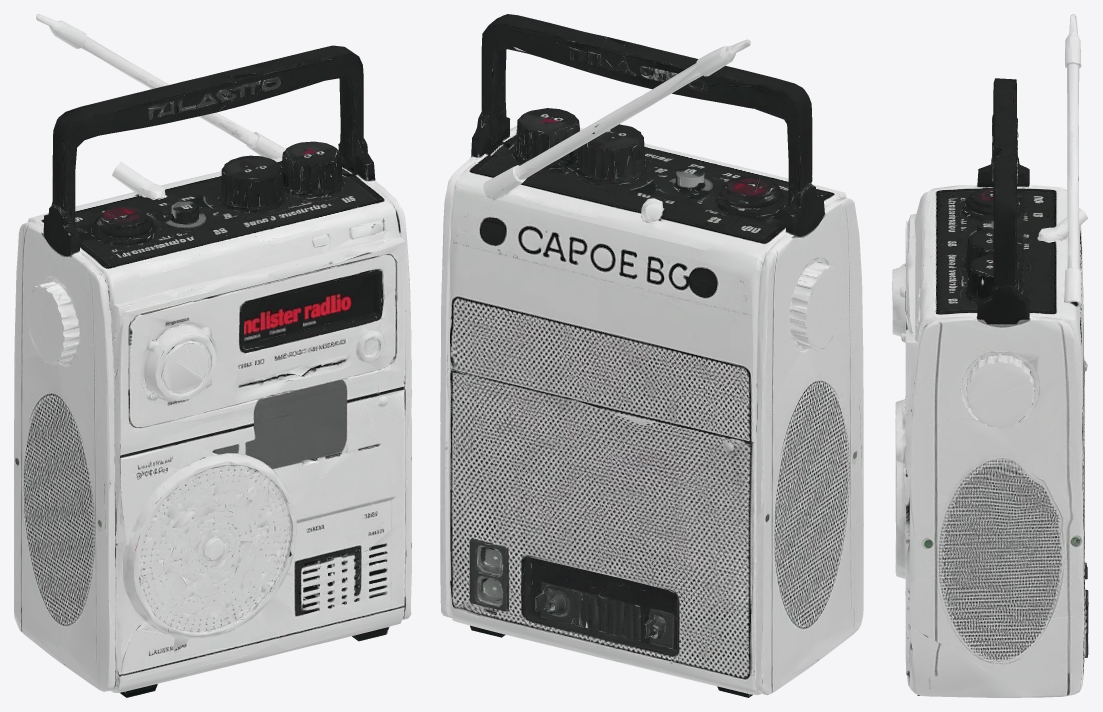
The model's file is sony-06.glb.
3 renders of one model, left to right at view 1: azimuth 30°, elevation 25°; view 2: azimuth 150°, elevation 25°; view 3: azimuth 270°, elevation 25°, orthographic. The views are drawn at different scales.
Bounding box in the file's own units: 1.06 × 1.9 × 0.5974.
Materials: 1 (1 with a texture image).
